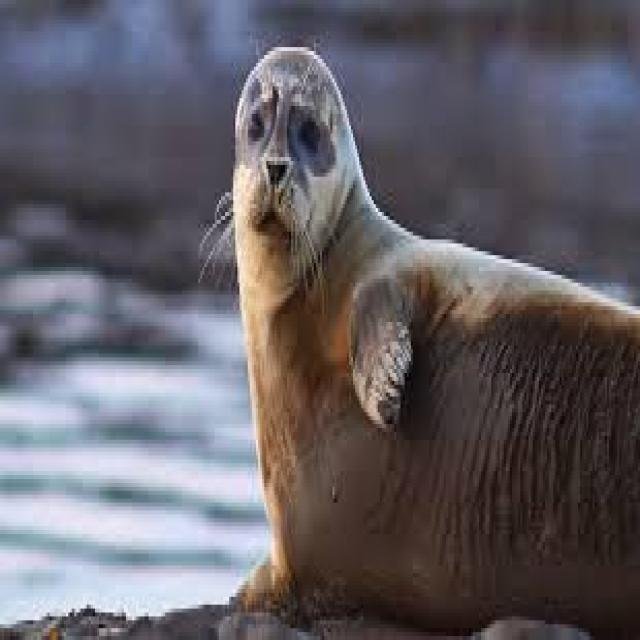seal: (198, 47, 638, 628)
